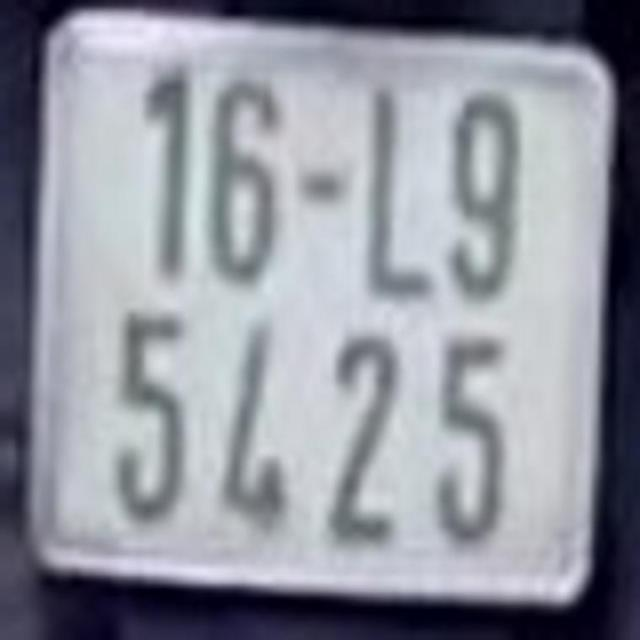1: (143, 53, 188, 270)
2: (332, 327, 400, 540)
4: (220, 311, 294, 534)
5: (439, 332, 513, 540), (120, 304, 188, 518)
6: (209, 68, 274, 274)
9: (456, 85, 523, 308)
L: (368, 77, 439, 300)
